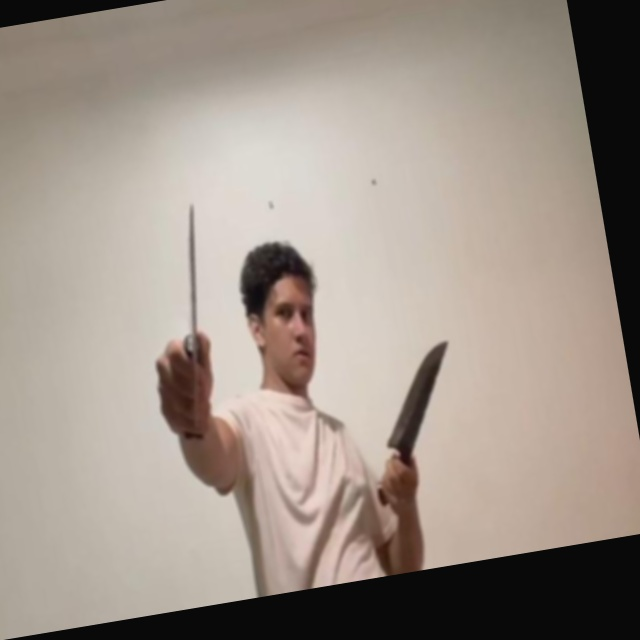Sharp-Object: (156, 201, 231, 437), (369, 336, 464, 453)
